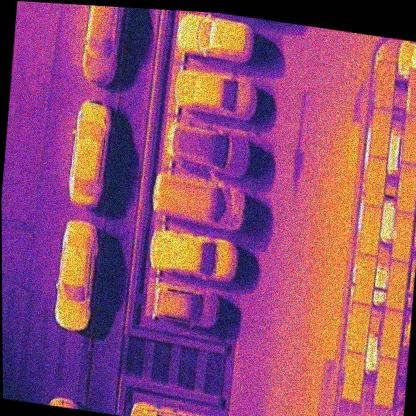Hotspot: (391, 210, 415, 264), (405, 68, 416, 120)
Normal: (347, 301, 373, 357), (364, 156, 389, 210), (380, 308, 405, 362), (386, 259, 410, 315), (373, 60, 398, 113), (358, 203, 382, 257), (341, 352, 366, 403), (353, 254, 377, 307), (369, 108, 393, 159), (374, 358, 398, 408), (396, 162, 416, 215), (401, 114, 416, 166)
